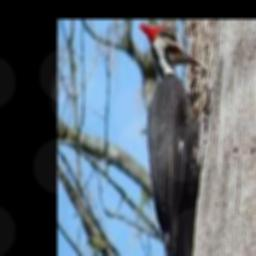Woodpecker: (139, 24, 203, 256)
